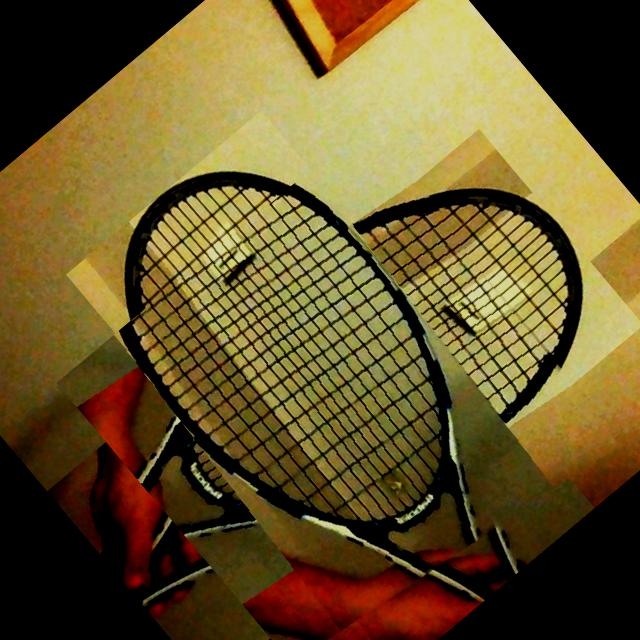TennisRacket: (55, 119, 633, 640)
